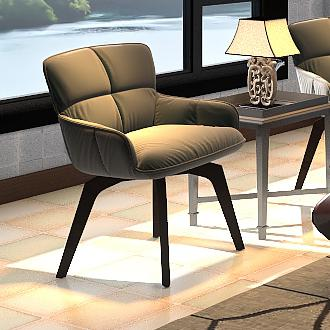table: (189, 100, 330, 240)
